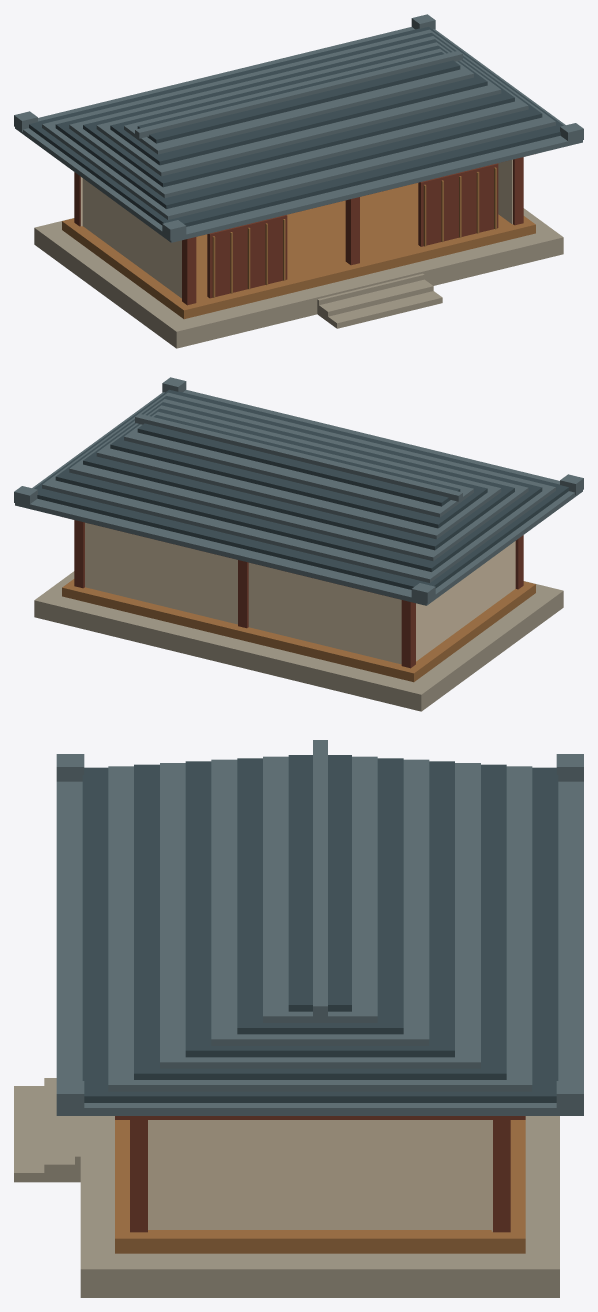
The model's file is demo-heritage-hall.glb.
3 views of the same model, one above another, from view 1: azimuth 30°, elevation 25°; view 2: azimuth 150°, elevation 25°; view 3: azimuth 270°, elevation 25° (orthographic). The views are drawn at different scales.
Parts seen in each view (by area): view 1: Root_roofLight, Root_roof, Root_beam, Root_stone, Root_wood, Root_wall; view 2: Root_roofLight, Root_roof, Root_wall, Root_stone, Root_beam, Root_wood; view 3: Root_roofLight, Root_roof, Root_wall, Root_stone, Root_beam, Root_wood.
Boxes of the visible parts, left/top/right/bottom form: Root_roofLight: left=14, top=14, right=583, bottom=242; Root_roof: left=29, top=26, right=563, bottom=226; Root_beam: left=62, top=167, right=535, bottom=319; Root_stone: left=34, top=208, right=563, bottom=348; Root_wood: left=74, top=154, right=535, bottom=305; Root_wall: left=80, top=159, right=512, bottom=298; Root_roofLight: left=14, top=377, right=583, bottom=605; Root_roof: left=34, top=389, right=568, bottom=589; Root_wall: left=85, top=522, right=515, bottom=664; Root_stone: left=34, top=571, right=563, bottom=711; Root_beam: left=62, top=579, right=535, bottom=682; Root_wood: left=62, top=517, right=523, bottom=668; Root_roofLight: left=56, top=740, right=583, bottom=1115; Root_roof: left=82, top=755, right=558, bottom=1102; Root_wall: left=148, top=1120, right=492, bottom=1231; Root_stone: left=14, top=1078, right=559, bottom=1297; Root_beam: left=115, top=1120, right=525, bottom=1253; Root_wood: left=115, top=1116, right=525, bottom=1232.
Size of the model in its own units: 11.75 by 4.28 by 8.32.
